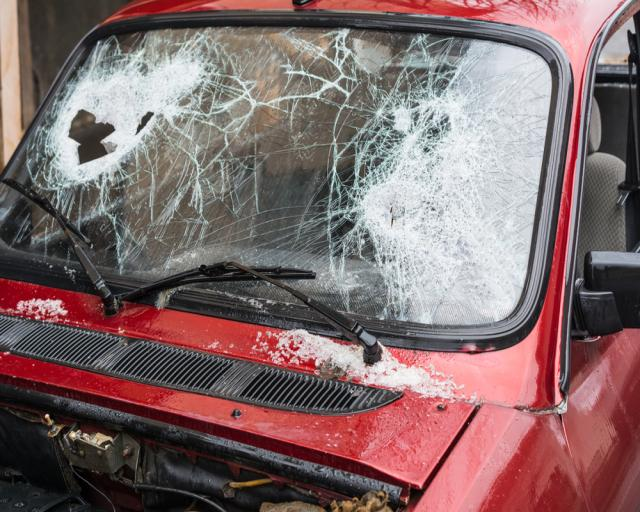glass shatter: (0, 29, 550, 326)
